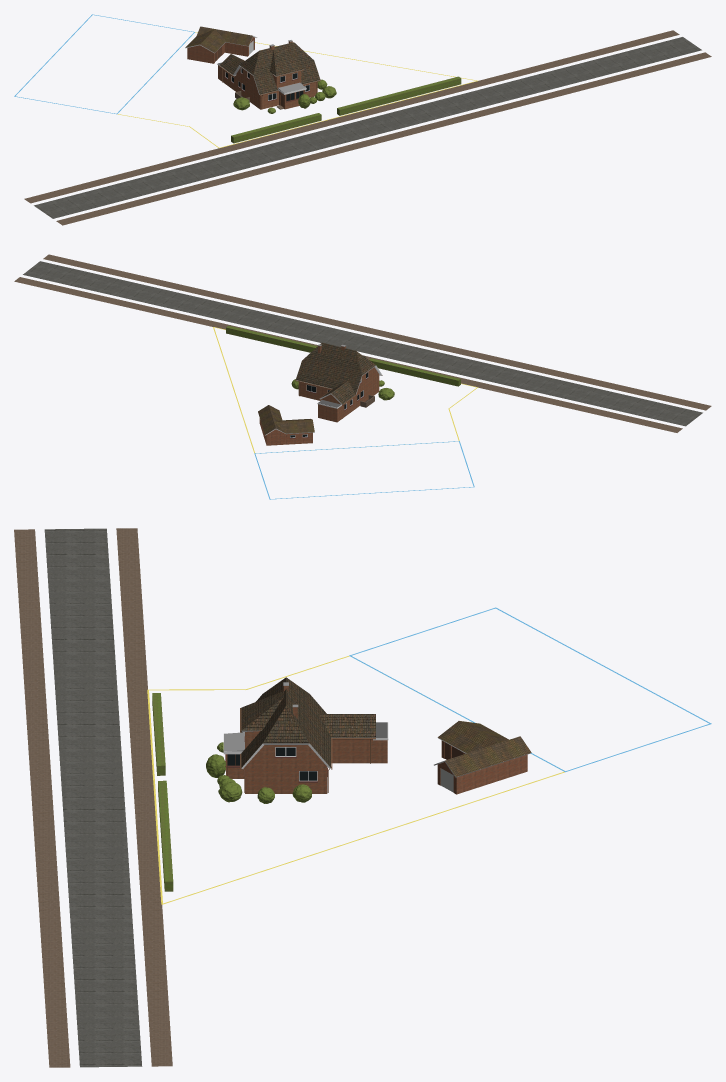
The model's file is bestand_nr12_v2.glb.
3 views of the same model, one above another, from view 1: azimuth 30°, elevation 25°; view 2: azimuth 150°, elevation 25°; view 3: azimuth 270°, elevation 25° (orthographic). The views are drawn at different scales.
Parts seen in each view (by area): view 1: Strasse, Stufe, Dach_Haupt, Hecke, Waende_Haupt, NG_Dach_T, NG_Riegel_Waende; view 2: Strasse, Stufe, Dach_Haupt, Hecke, Waende_Haupt, NG_Dach_T, NG_Riegel_Waende; view 3: Strasse, Stufe, Dach_Haupt, Waende_Haupt, Hecke, NG_Dach_T, NG_Riegel_Waende.
Boxes of the visible parts, <box> form: Strasse: <box>34,37,701,218</box>; Stufe: <box>24,30,711,225</box>; Dach_Haupt: <box>14,14,478,148</box>; Hecke: <box>231,76,461,143</box>; Waende_Haupt: <box>218,41,317,109</box>; NG_Dach_T: <box>185,26,252,52</box>; NG_Riegel_Waende: <box>187,37,254,63</box>; Strasse: <box>23,261,702,426</box>; Stufe: <box>14,254,711,432</box>; Dach_Haupt: <box>213,327,477,499</box>; Hecke: <box>226,325,460,400</box>; Waende_Haupt: <box>298,346,379,422</box>; NG_Dach_T: <box>258,405,314,434</box>; NG_Riegel_Waende: <box>259,418,312,445</box>; Strasse: <box>44,528,142,1067</box>; Stufe: <box>14,528,172,1067</box>; Dach_Haupt: <box>147,607,711,904</box>; Waende_Haupt: <box>226,686,387,793</box>; Hecke: <box>152,693,312,891</box>; NG_Dach_T: <box>438,721,531,776</box>; NG_Riegel_Waende: <box>437,740,527,794</box>.
Size of what is drawn, in the model's own units: 133 by 9.68 by 72.89.
Materials: 9 (9 with a texture image).
